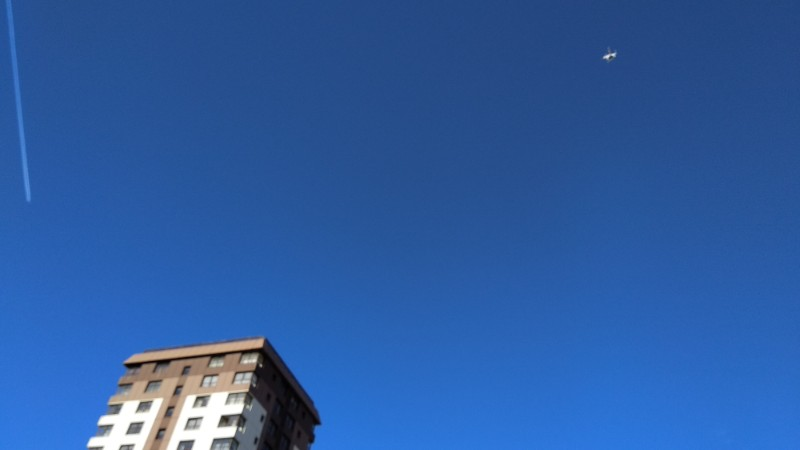drone: (600, 43, 620, 61)
